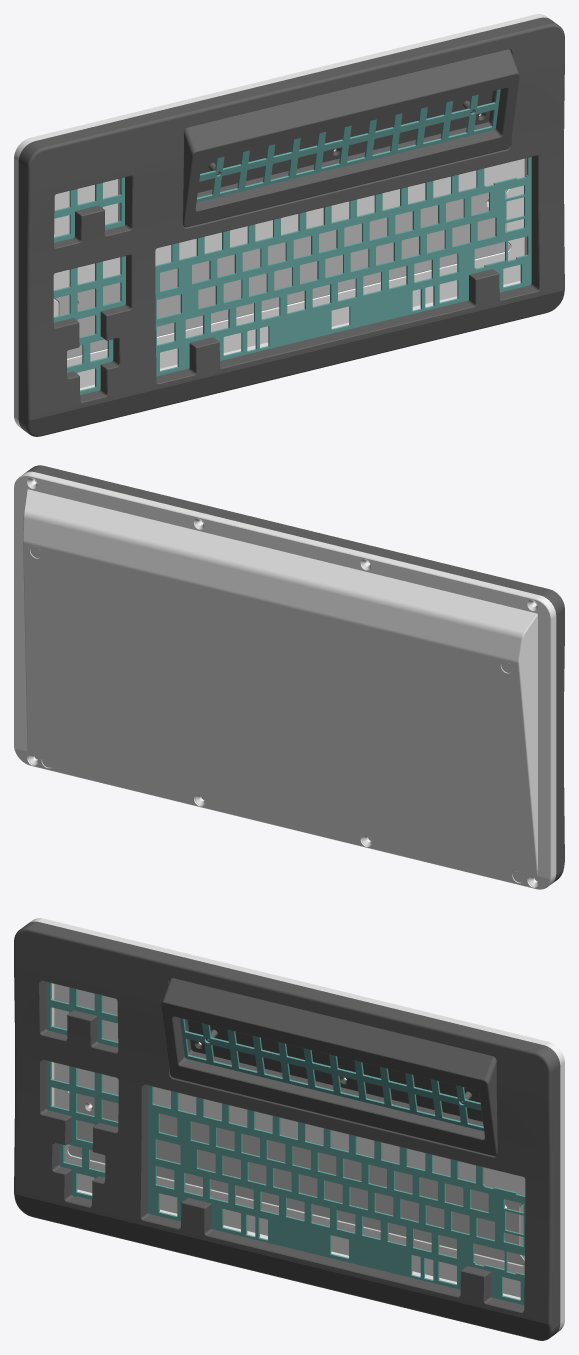
Rendered from biggerchad-treeleaf.fbx.
3 views of the same model, one above another, from view 1: azimuth 30°, elevation 25°; view 2: azimuth 150°, elevation 25°; view 3: azimuth 330°, elevation 25° (orthographic).
Visible parts, largest first — view 1: Top, ISO, FRowBase, Bottom, Weight, FRowPlate; view 2: Bottom, Top; view 3: Top, ISO, FRowBase, Bottom, Weight, FRowPlate.
Boxes of the visible parts, box(x1,y1,x2,y2) form: Top: box(18, 17, 564, 436); ISO: box(53, 157, 531, 394); FRowBase: box(183, 49, 519, 227); Bottom: box(14, 14, 549, 429); Weight: box(54, 189, 510, 358); FRowPlate: box(196, 89, 500, 202); Bottom: box(14, 471, 556, 889); Top: box(24, 465, 564, 883); Top: box(14, 921, 560, 1340); ISO: box(47, 982, 525, 1305); FRowBase: box(161, 978, 497, 1156); Bottom: box(29, 918, 564, 1333); Weight: box(68, 1093, 524, 1265); FRowPlate: box(180, 1018, 483, 1131).
Bounding box in the file's own units: 403 × 208 × 45.53.
